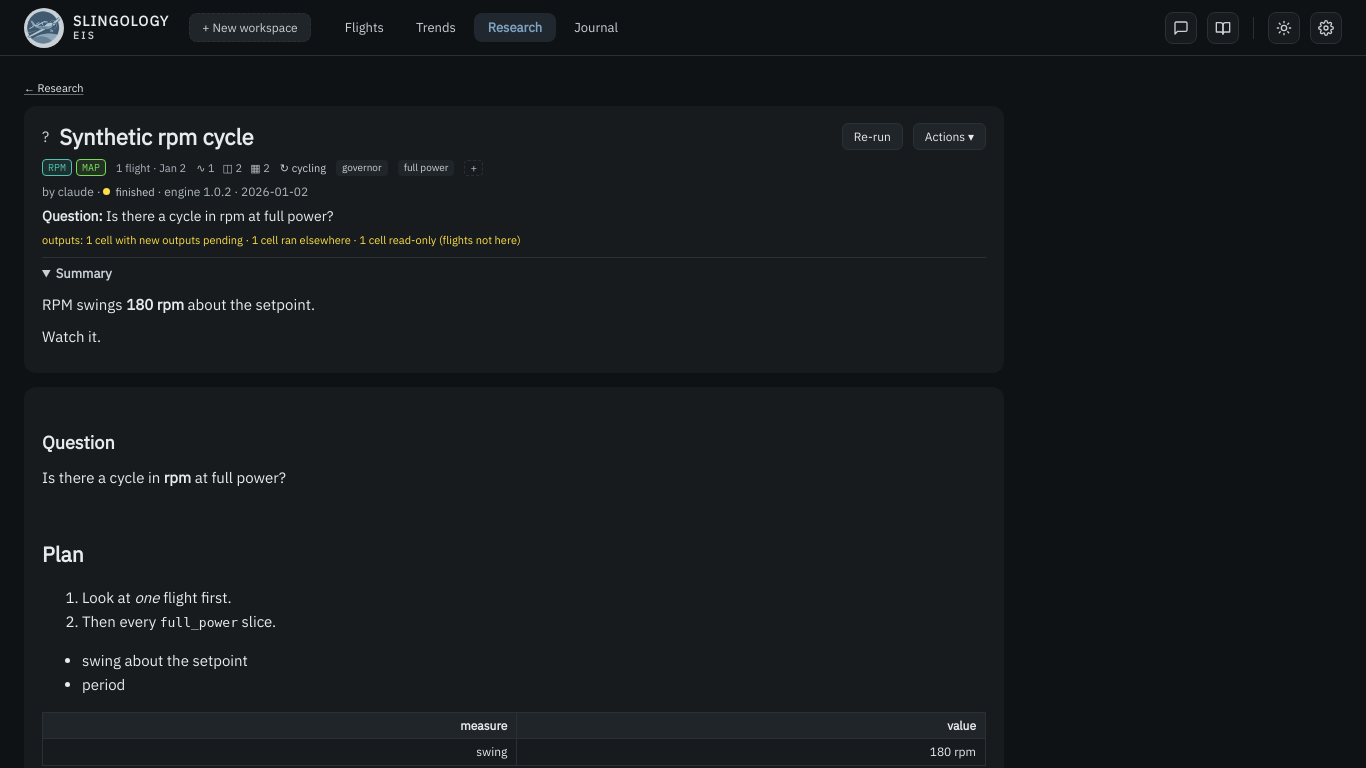
Test: the notebook on the Research page (§5.3) › the owner adds a tag from the header's + (Spec 03 v0.37)
This screenshot has width=1366, height=768.
expect the header with test id "notebook-header" is shown: met, box [24, 106, 1004, 373]
expect the elements with test id "nb-tag" read "governor", "full power", in this order: met, box [336, 160, 388, 176]; [398, 160, 454, 176]
Click the button with test id "nb-tag-add" at point(474, 168), box [464, 160, 483, 176]
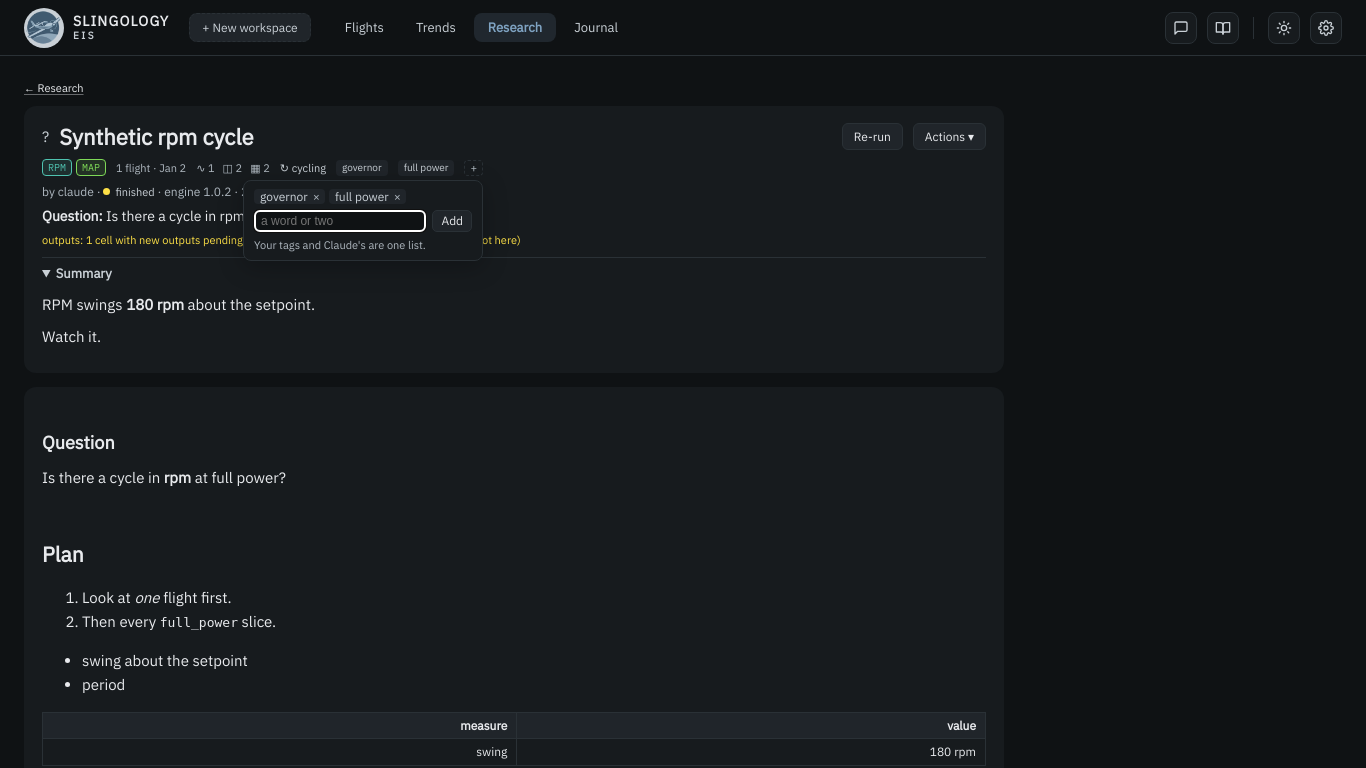
Type "takeoff" into the field named "Add a tag" at point(340, 220), box [254, 210, 426, 232]
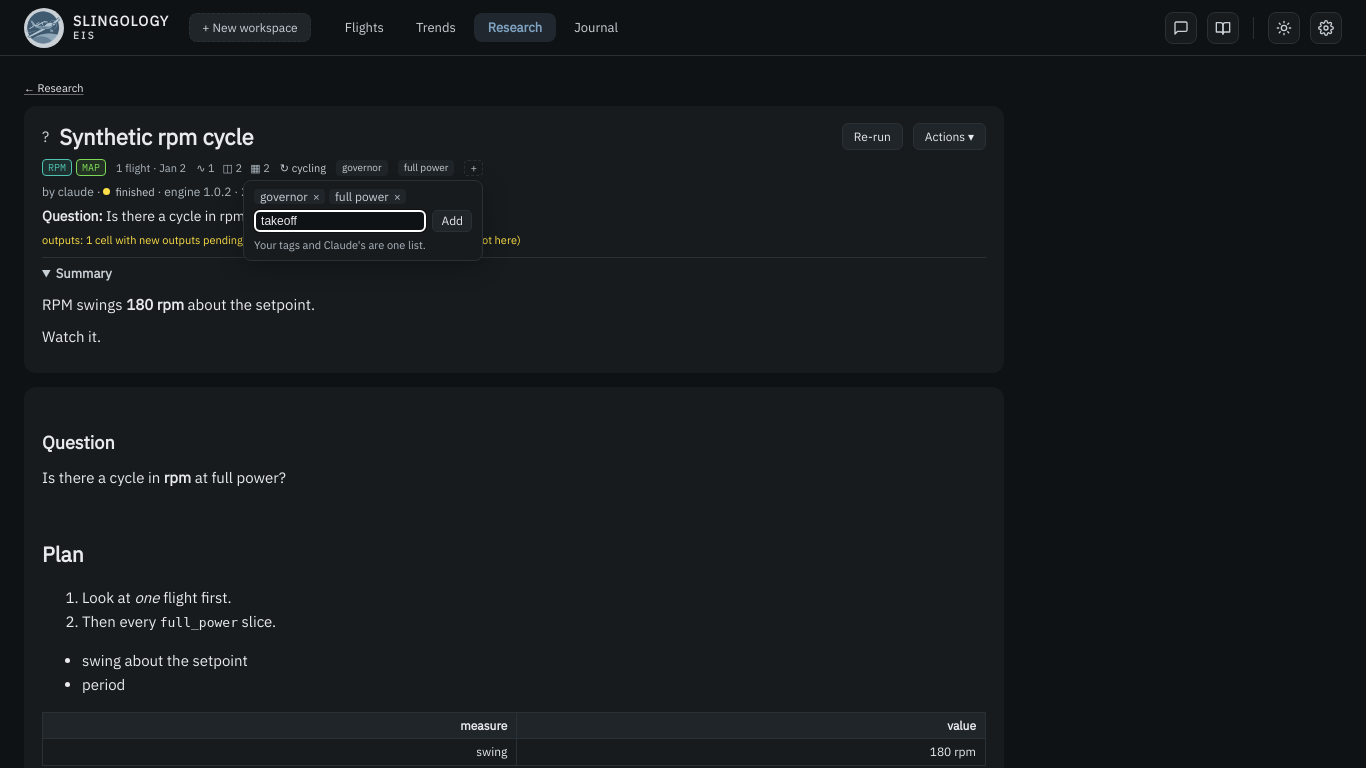
Click the button "Add" at point(452, 220), box [432, 210, 472, 232]
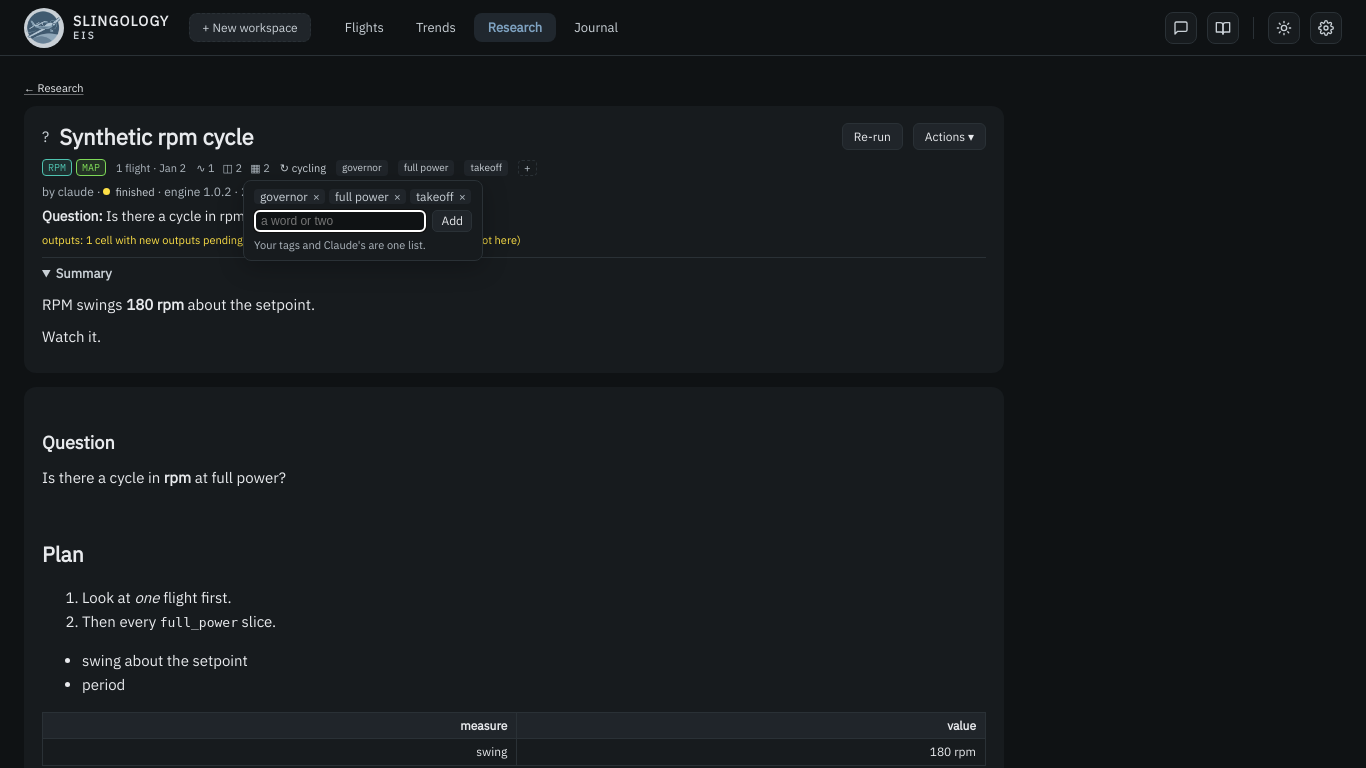
expect the elements with test id "nb-tag" read "governor", "full power", "takeoff", in this order: met, box [336, 160, 388, 176]; [398, 160, 454, 176]; [464, 160, 508, 176]
